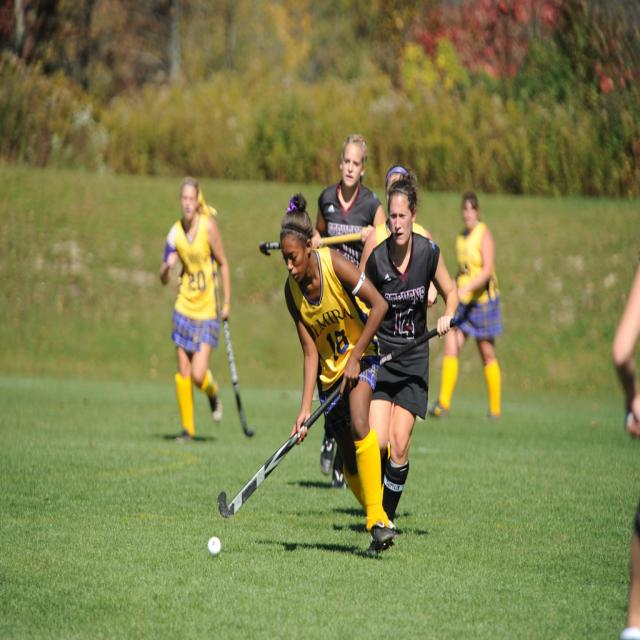Ball: (208, 536, 221, 554)
